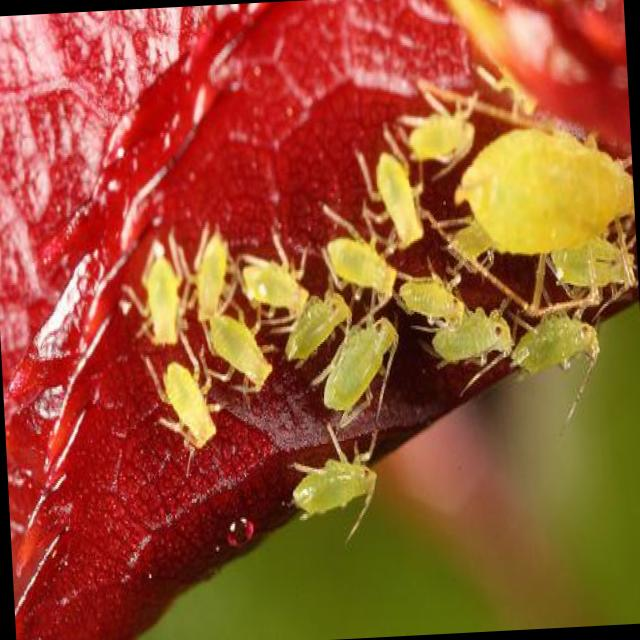Aphids: (439, 111, 635, 320), (302, 314, 422, 447), (363, 114, 442, 264), (263, 431, 389, 518), (305, 205, 415, 304), (416, 288, 523, 388), (387, 80, 485, 189), (144, 342, 224, 464), (120, 227, 194, 351), (200, 304, 280, 406), (515, 296, 609, 382), (394, 264, 467, 338)
